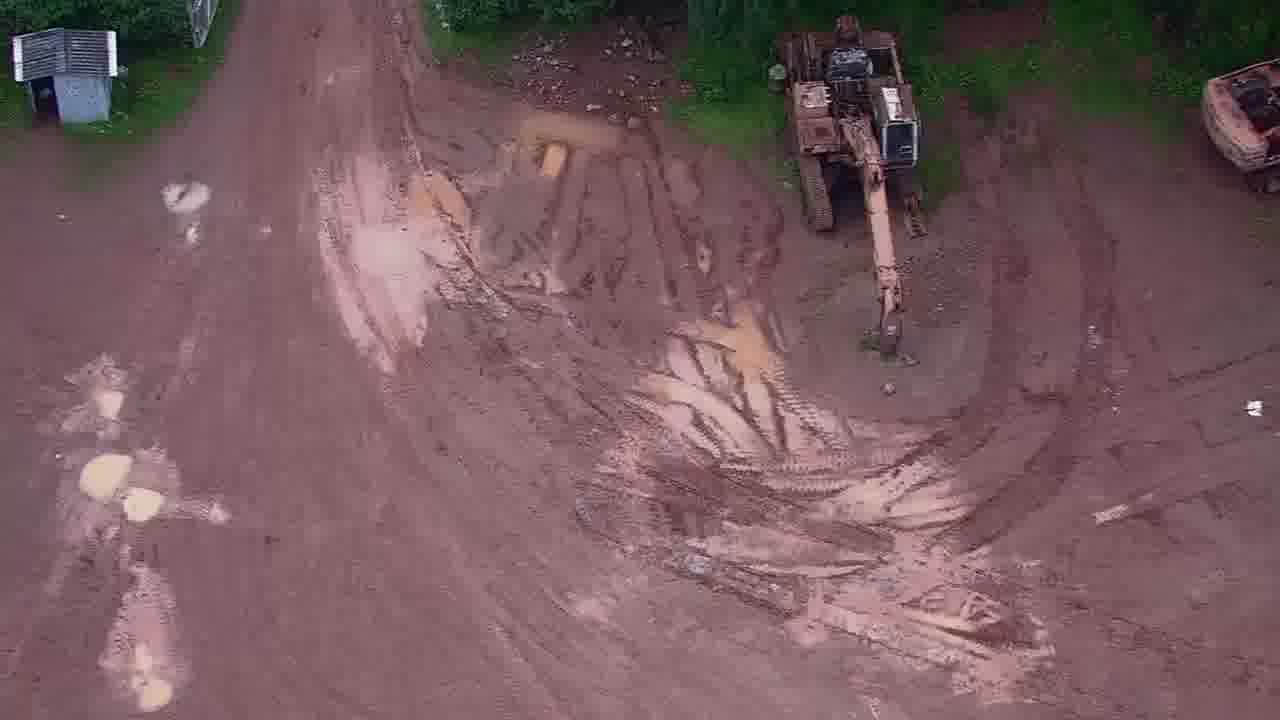HMV: (762, 14, 926, 362)
